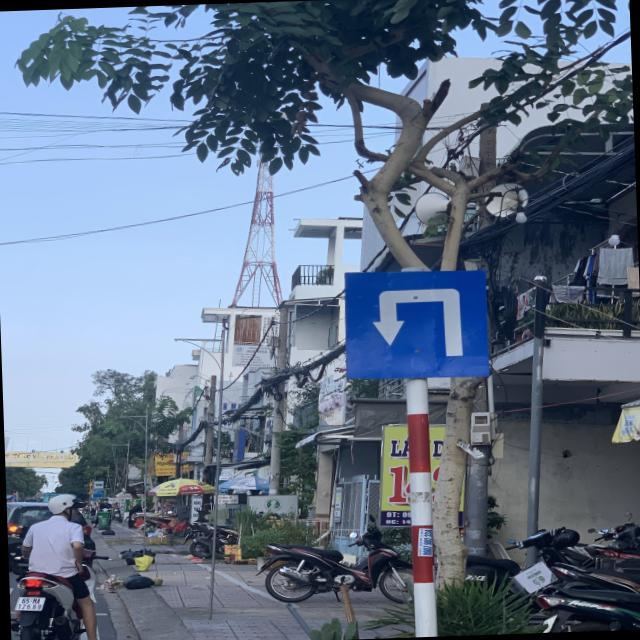Den_Giao_Thong: (342, 267, 488, 378)
